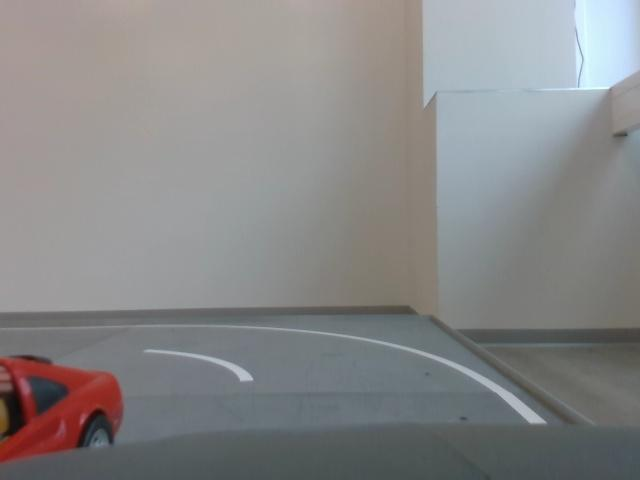car: (1, 338, 141, 479)
